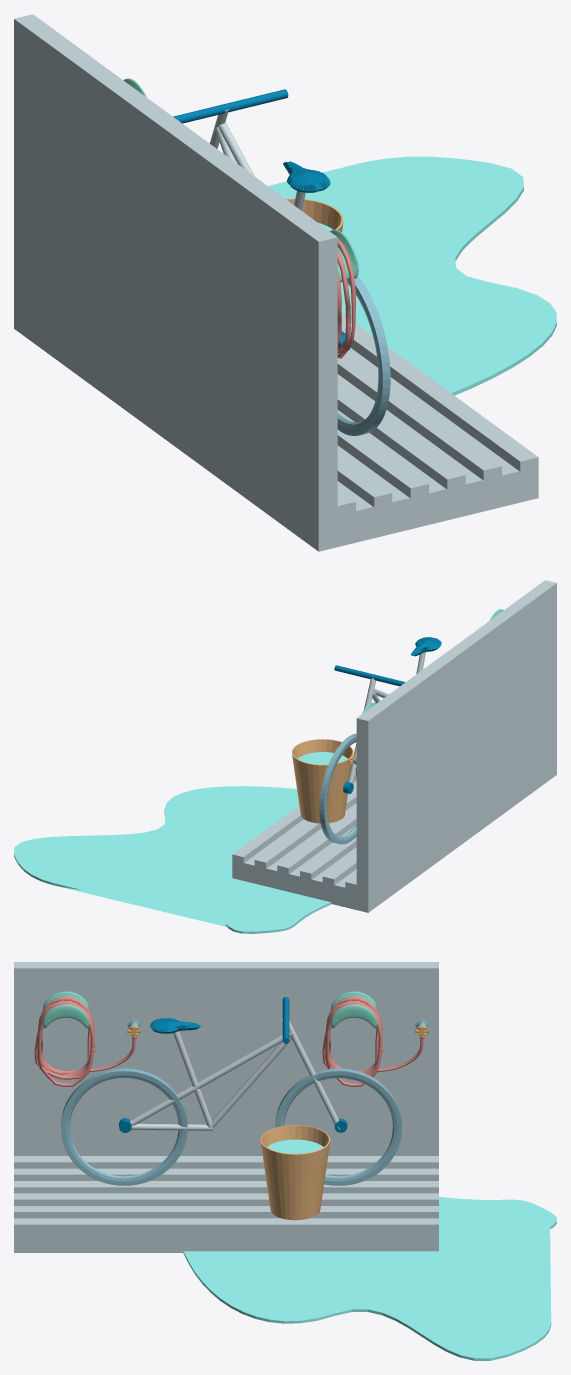
Rendered from BikeCleaningStation.fbx.
The picture shows the model from 3 angles, top to bottom: view 1: azimuth 30°, elevation 25°; view 2: azimuth 150°, elevation 25°; view 3: azimuth 270°, elevation 25°; orthographic projection. The views are drawn at different scales.
Parts seen in each view (by area): view 1: BikeCleaningStation; view 2: BikeCleaningStation; view 3: BikeCleaningStation.
Part boxes in pixels (left/top/right/bottom): BikeCleaningStation: left=14, top=14, right=556, bottom=551; BikeCleaningStation: left=14, top=580, right=556, bottom=933; BikeCleaningStation: left=14, top=962, right=556, bottom=1360.
Bounding box in the file's own units: 203 × 113 × 255.
